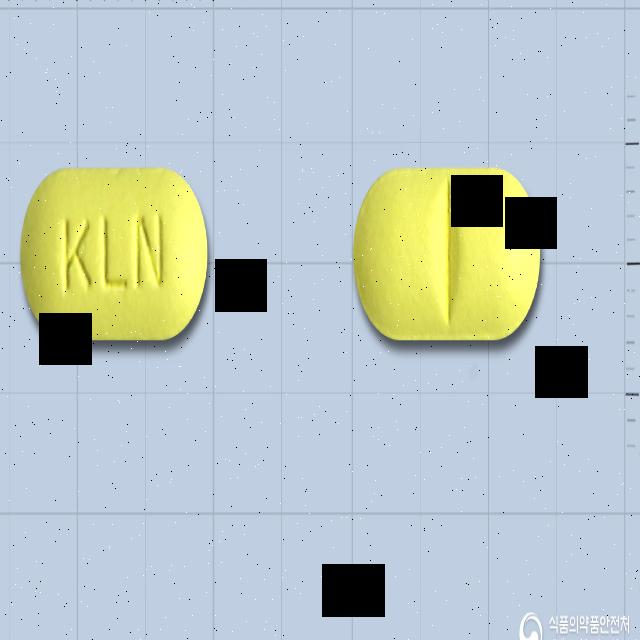Clarith: (16, 164, 210, 349), (352, 167, 544, 347)
